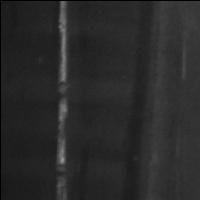scratches: (53, 1, 73, 197)
